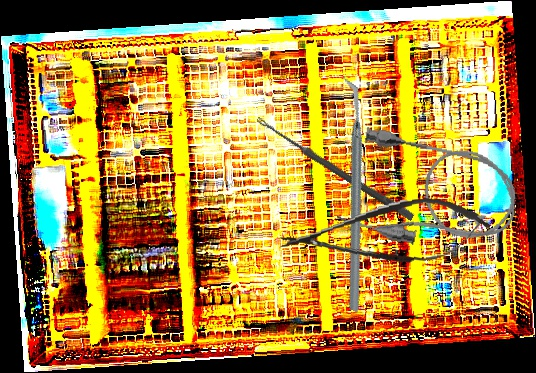Cannula: (334, 124, 526, 263)
Chopper: (257, 75, 446, 314)
Micro Scissor: (276, 192, 493, 275)
Surgical Spoon: (254, 115, 416, 222)
